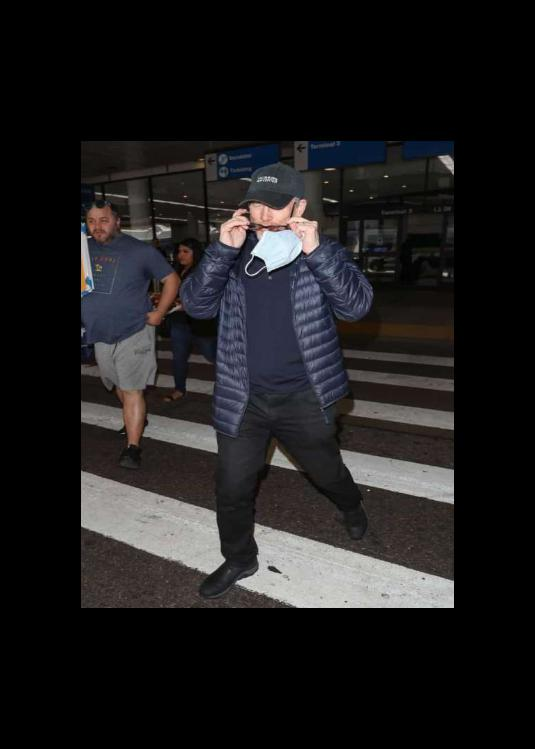mask_weared_incorrect: (250, 205, 298, 246)
without_mask: (88, 210, 116, 243), (176, 247, 193, 266)
